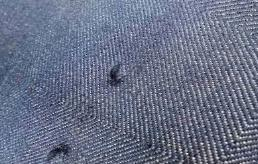knot: (105, 63, 130, 88), (44, 145, 71, 163)
